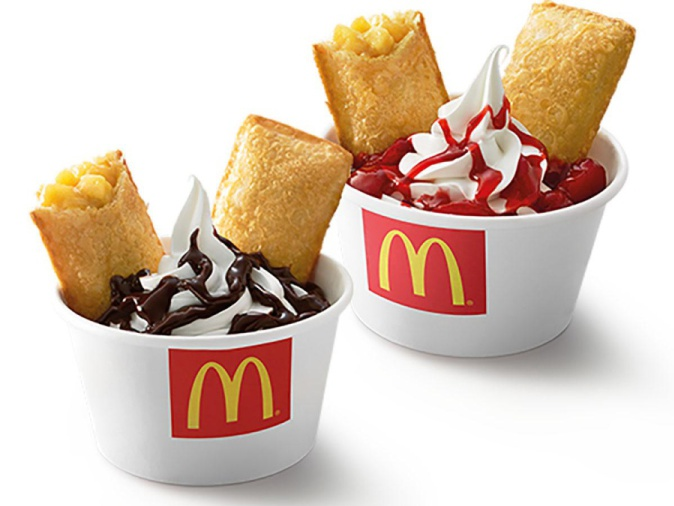mcdonalds: (369, 223, 484, 314), (182, 360, 278, 435)
